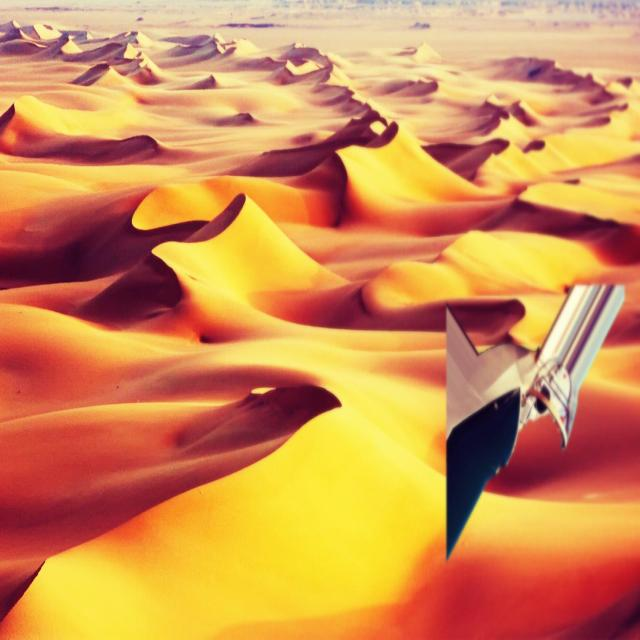airplane: (444, 280, 625, 561)
